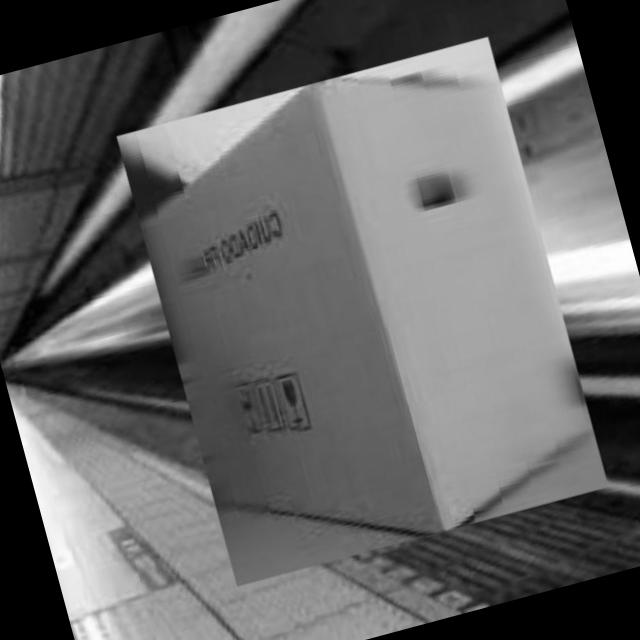box: (106, 28, 616, 596)
